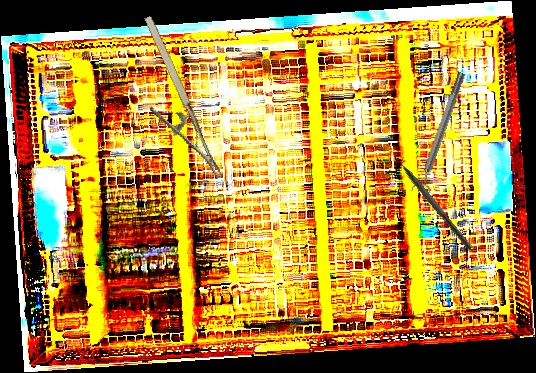Chopper: (388, 147, 480, 251)
Fixation Ring: (409, 69, 473, 198)
Needle Holder: (117, 13, 223, 193)
